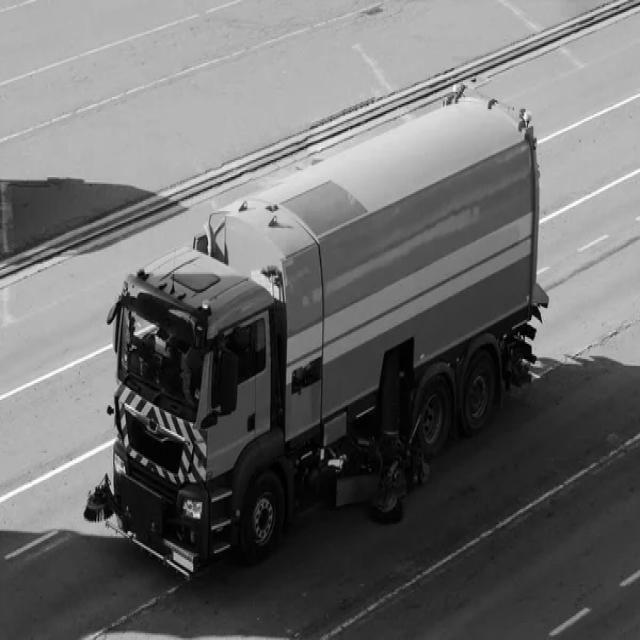Truck: (86, 93, 550, 574)
